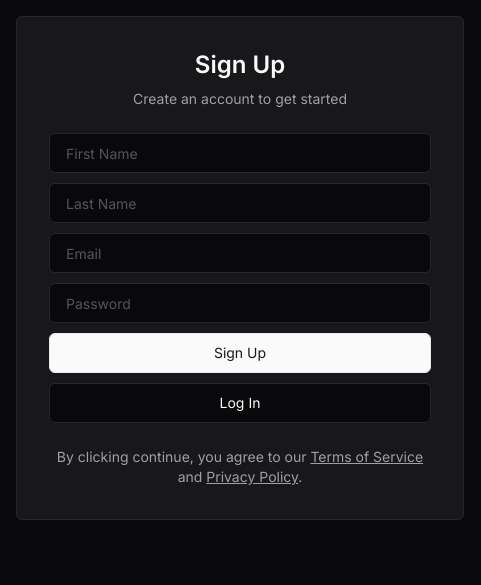
Test: Signup Page Tests › should show validation error for invalid email
This screenshot has width=481, height=585.
Step 1. Type "John" into the field with placeholder "First Name" → x=240, y=153, box [49,133,431,173]
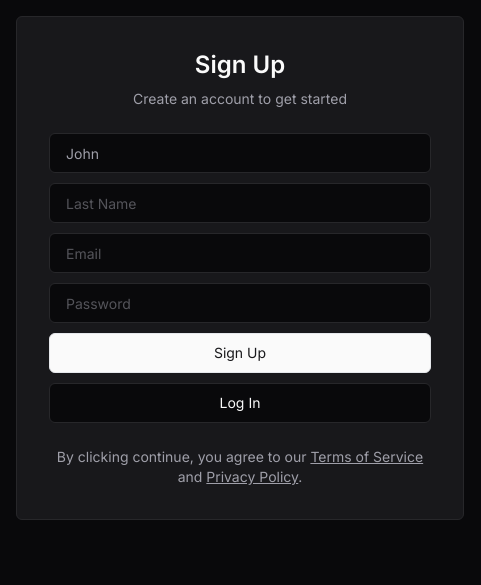
Step 2. Type "Doe" into the field with placeholder "Last Name" → x=240, y=203, box [49,183,431,223]
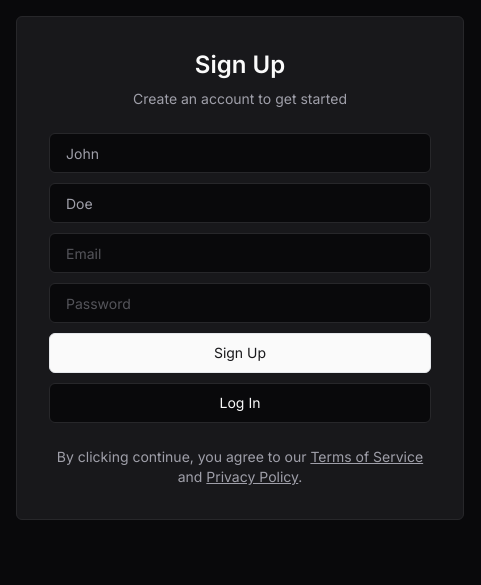
Step 3. Type "invalid-email" into the field with placeholder "Email" → x=240, y=253, box [49,233,431,273]
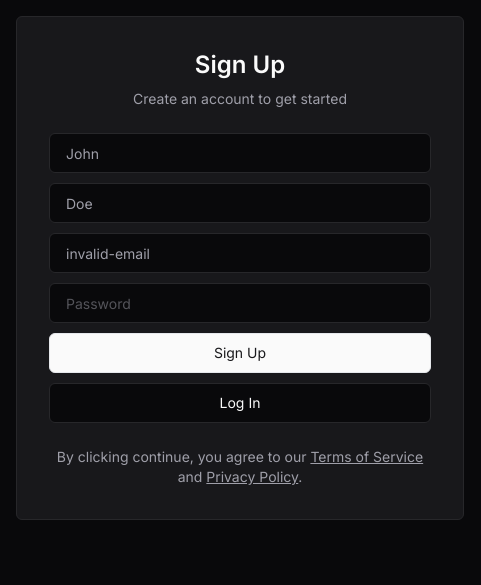
Step 4. Type "password123" into the password field with placeholder "Password" → x=240, y=303, box [49,283,431,323]
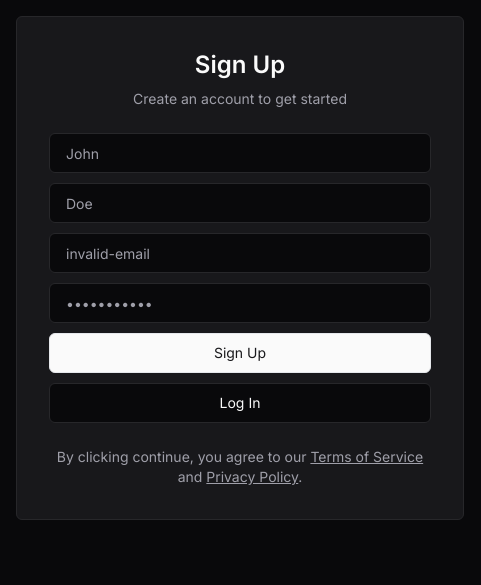
Step 5. Click the button "Sign Up" → x=240, y=353, box [49,333,431,373]
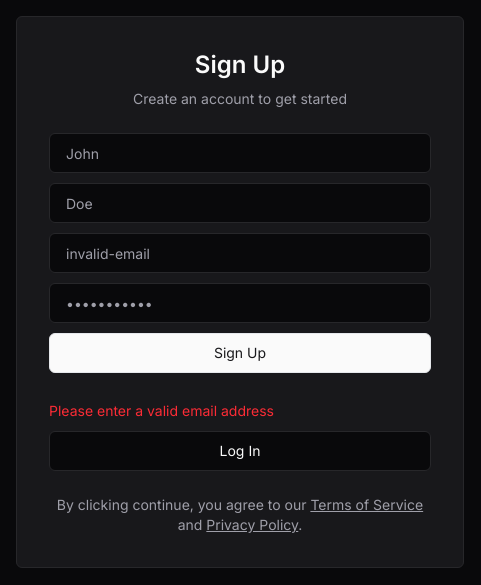
Check: the text "Please enter a valid email address" is shown, box [49,402,274,419]
